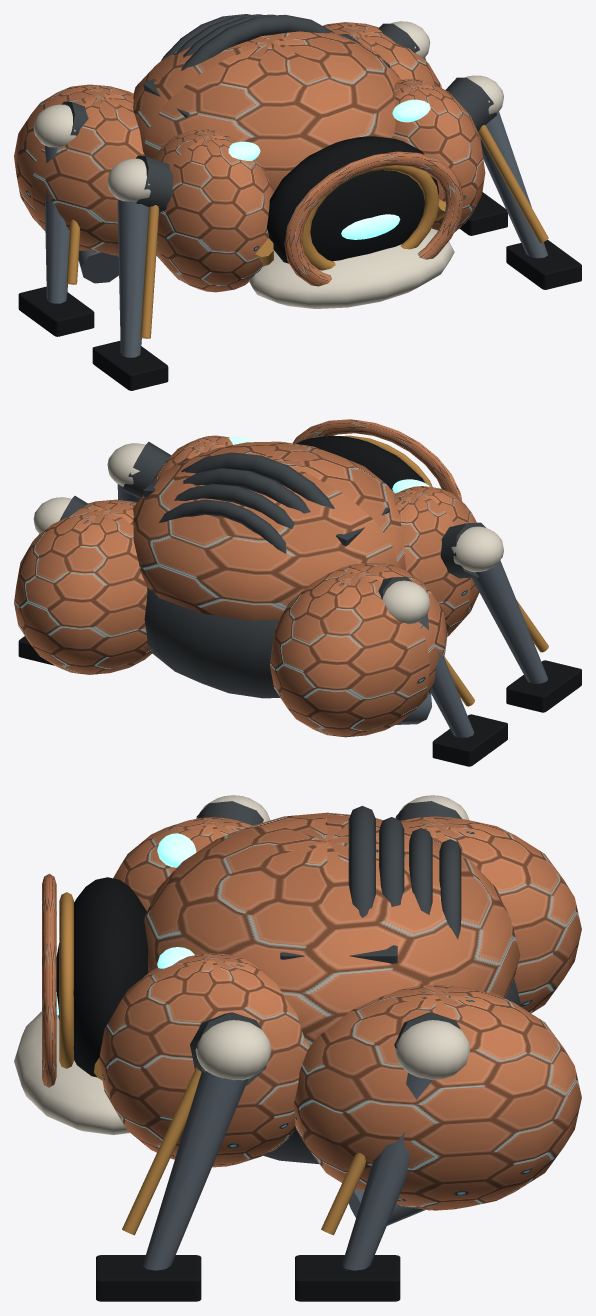
Rendered from warden-machine-bellows-v1.glb.
The picture shows the model from 3 angles, top to bottom: view 1: azimuth 30°, elevation 25°; view 2: azimuth 150°, elevation 25°; view 3: azimuth 270°, elevation 25°; orthographic projection. The views are drawn at different scales.
Parts seen in each view (by area): view 1: Hopper chassis, Leg rocker (×4), Exposed instrument, Hinged pressure jaw; view 2: Hopper chassis, Leg rocker (×4), Exposed instrument; view 3: Hopper chassis, Leg rocker (×4), Exposed instrument, Hinged pressure jaw.
Part boxes in pixels (left/top/right/bottom): Hopper chassis: left=14, top=14, right=485, bottom=292; Leg rocker (×4): left=18, top=21, right=581, bottom=390; Exposed instrument: left=267, top=136, right=463, bottom=286; Hinged pressure jaw: left=248, top=199, right=454, bottom=308; Hopper chassis: left=14, top=435, right=479, bottom=737; Leg rocker (×4): left=18, top=441, right=581, bottom=766; Exposed instrument: left=293, top=419, right=462, bottom=501; Hopper chassis: left=99, top=806, right=581, bottom=1225; Leg rocker (×4): left=96, top=795, right=469, bottom=1301; Exposed instrument: left=42, top=873, right=148, bottom=1087; Hinged pressure jaw: left=14, top=1011, right=129, bottom=1135.
Size of the model in its own units: 3.08 by 1.62 by 2.48.
Materials: 7 (1 with a texture image).
